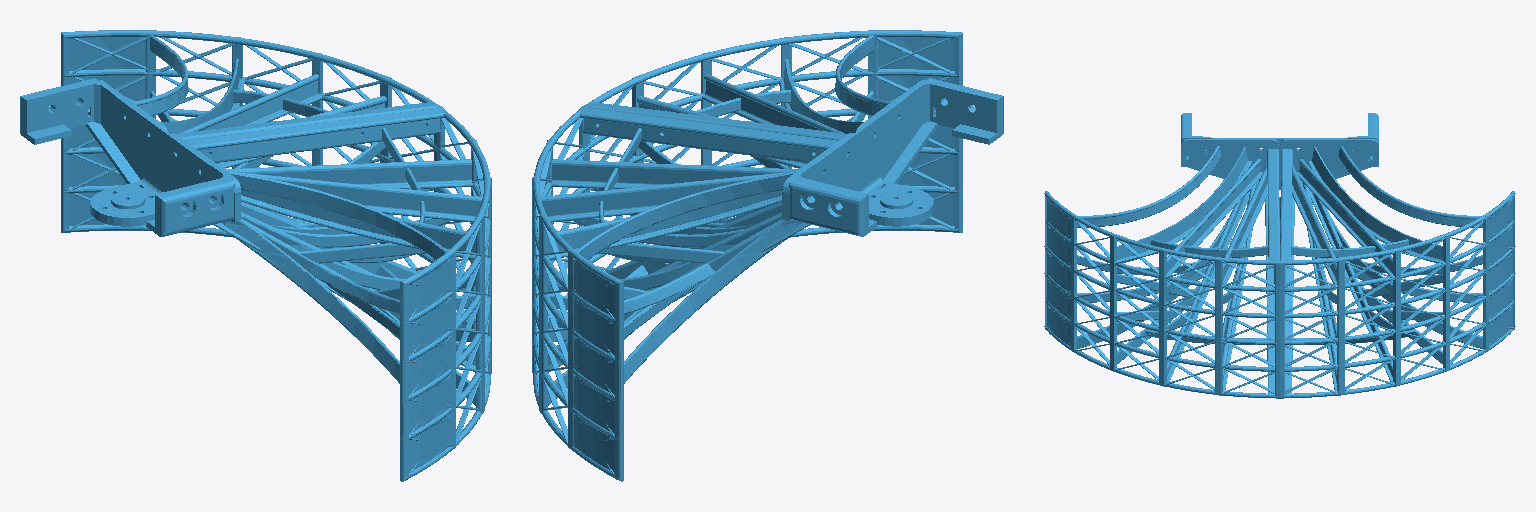
robot.urdf — wheelchair:
<?xml version="1.0" ?>
<!-- =================================================================================== -->
<!-- |    This document was autogenerated by xacro from xarco/wheelchair.urdf.xacro    | -->
<!-- |    EDITING THIS FILE BY HAND IS NOT RECOMMENDED                                 | -->
<!-- =================================================================================== -->
<!-- Mass and inertia are not correct -->
<robot name="wheelchair" xmlns:xacro="https://www.ros.org/wiki/xacro">
  <link name="wheelchair_main">
    <inertial>
      <origin rpy="0 0 0" xyz="0 0 0"/>
      <mass value="50"/>
      <inertia ixx="22.23722770713" ixy="-0.04006835911" ixz="-0.02300035044" iyy="17.58011380849" iyz="-0.02387139307" izz="28.82981259528"/>
    </inertial>
    <visual>
      <geometry>
        <mesh filename="stl/wheelchair.stl" scale="1 1 1"/>
      </geometry>
      <origin rpy="0 0 1.57079632679" xyz="0 0 0"/>
    </visual>
    <collision>
      <geometry>
        <mesh filename="stl/wheelchair.stl" scale="1 1 1"/>
      </geometry>
      <origin rpy="0 0 1.57079632679" xyz="0 0 0"/>
    </collision>
  </link>
  <link name="bumper">
    <inertial>
      <origin rpy="0 0 0" xyz="0 0 0"/>
      <mass value="1.5"/>
      <inertia ixx="0.02155077848" ixy="0.00000859993" ixz="0.00000332812" iyy="0.03332543416" iyz="0.00575422413" izz="0.04216038950"/>
    </inertial>
    <visual>
      <geometry>
        <mesh filename="stl/bumper.stl" scale="1 1 1"/>
      </geometry>
      <origin rpy="0 0 1.57079632679" xyz="0 0 0"/>
    </visual>
    <collision>
      <geometry>
        <mesh filename="stl/bumper.stl" scale="1 1 1"/>
      </geometry>
      <origin rpy="0 0 1.57079632679" xyz="0 0 0"/>
    </collision>
  </link>
  <joint name="wheelchair_main_to_bumper" type="fixed">
    <parent link="wheelchair_main"/>
    <child link="bumper"/>
    <origin xyz="0.35 0 0.19"/>
    <axis xyz="1 0 0"/>
  </joint>
</robot>

--- Facts derived from the render (not from the file) ---
The picture shows the robot from 3 angles, left to right: view 1: azimuth 30°, elevation 25°; view 2: azimuth 150°, elevation 25°; view 3: azimuth 270°, elevation 25°; orthographic projection.
Model wheelchair with 2 links and 1 joints (1 fixed), rooted at wheelchair_main, posed every joint at zero.
Links seen in each view (by area): view 1: bumper; view 2: bumper; view 3: bumper.
Boxes of the visible links, left/top/right/bottom form: bumper: left=20, top=30, right=491, bottom=481; bumper: left=532, top=30, right=1003, bottom=481; bumper: left=1044, top=113, right=1515, bottom=398.
Size in the robot's own frame: 0.3805 by 0.641 by 0.2523 metres.
1 mesh visuals loaded from 2 distinct referenced files (1 binary STL); not drawn: 1 (reference not matched to a file when rendering).